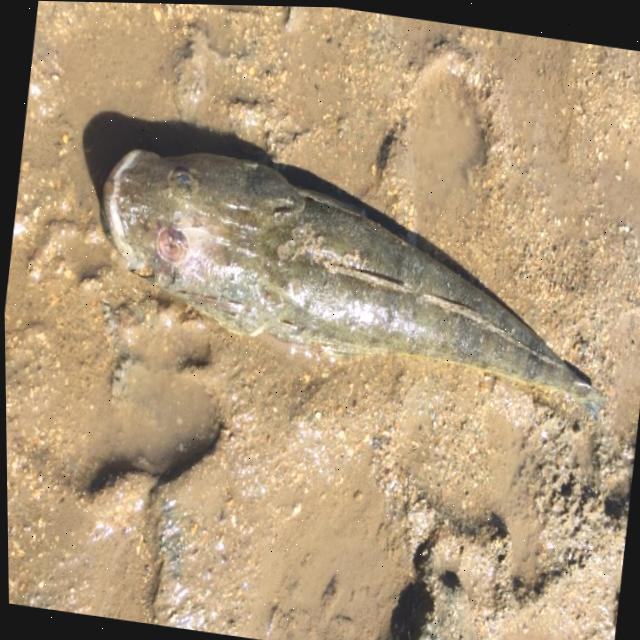Flathead: (58, 100, 636, 454)
